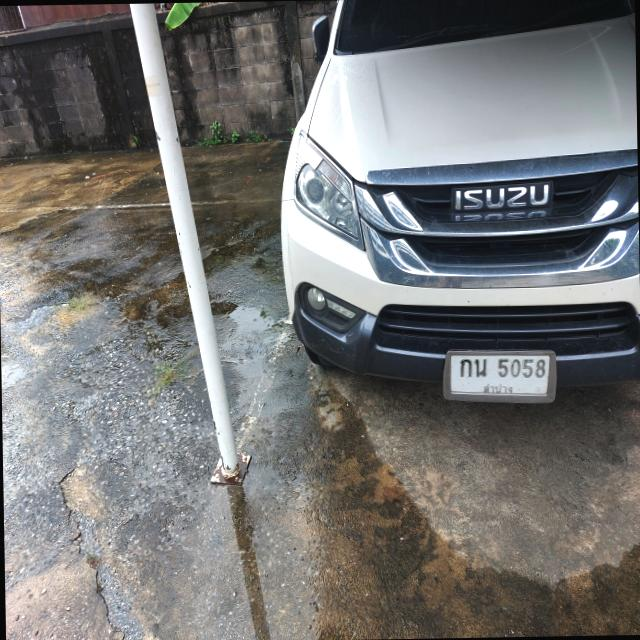license_plate: (441, 347, 562, 406)
